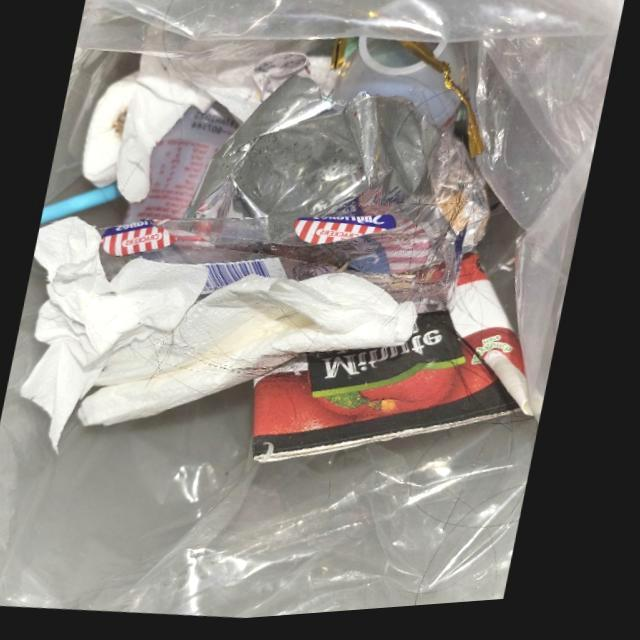food_wrapper: (102, 219, 460, 320)
paper: (83, 278, 423, 427), (25, 216, 213, 455), (84, 55, 340, 205)
plastic_container: (332, 41, 470, 138)
